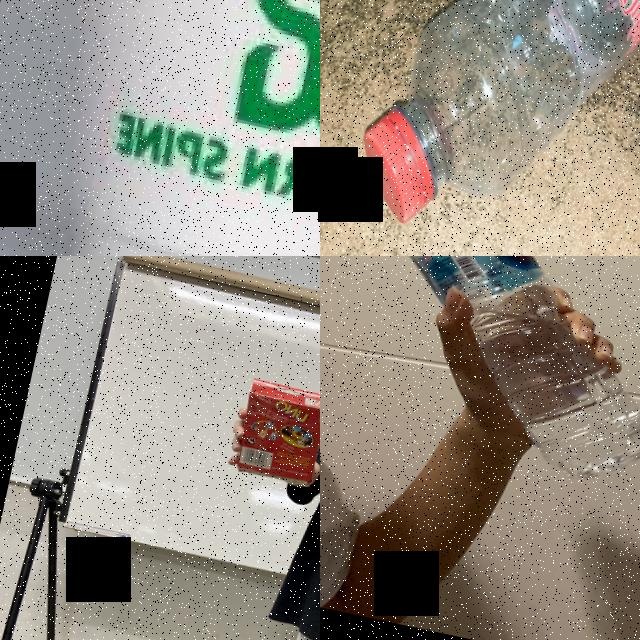bottle: (320, 256, 640, 496), (343, 0, 640, 256)
cup: (0, 0, 320, 256)
